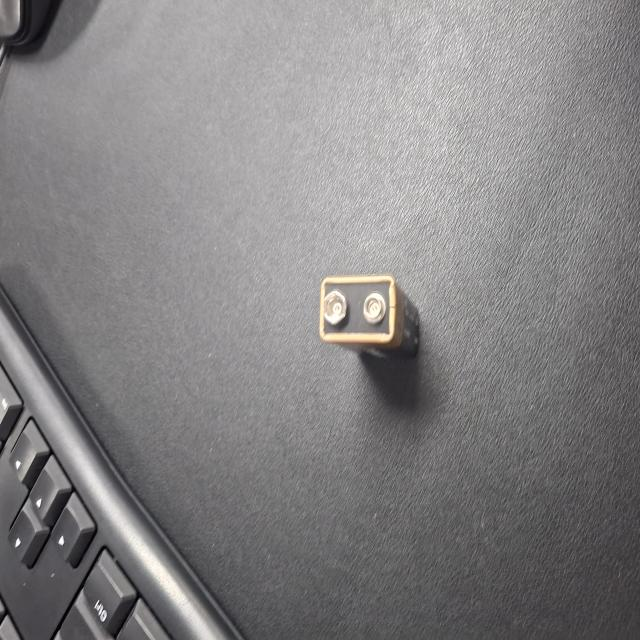9V: (212, 426, 274, 558)
